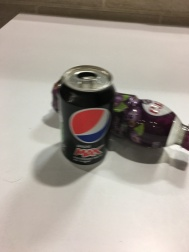bottle_purple: (116, 86, 189, 157)
can_black: (54, 66, 120, 172)
